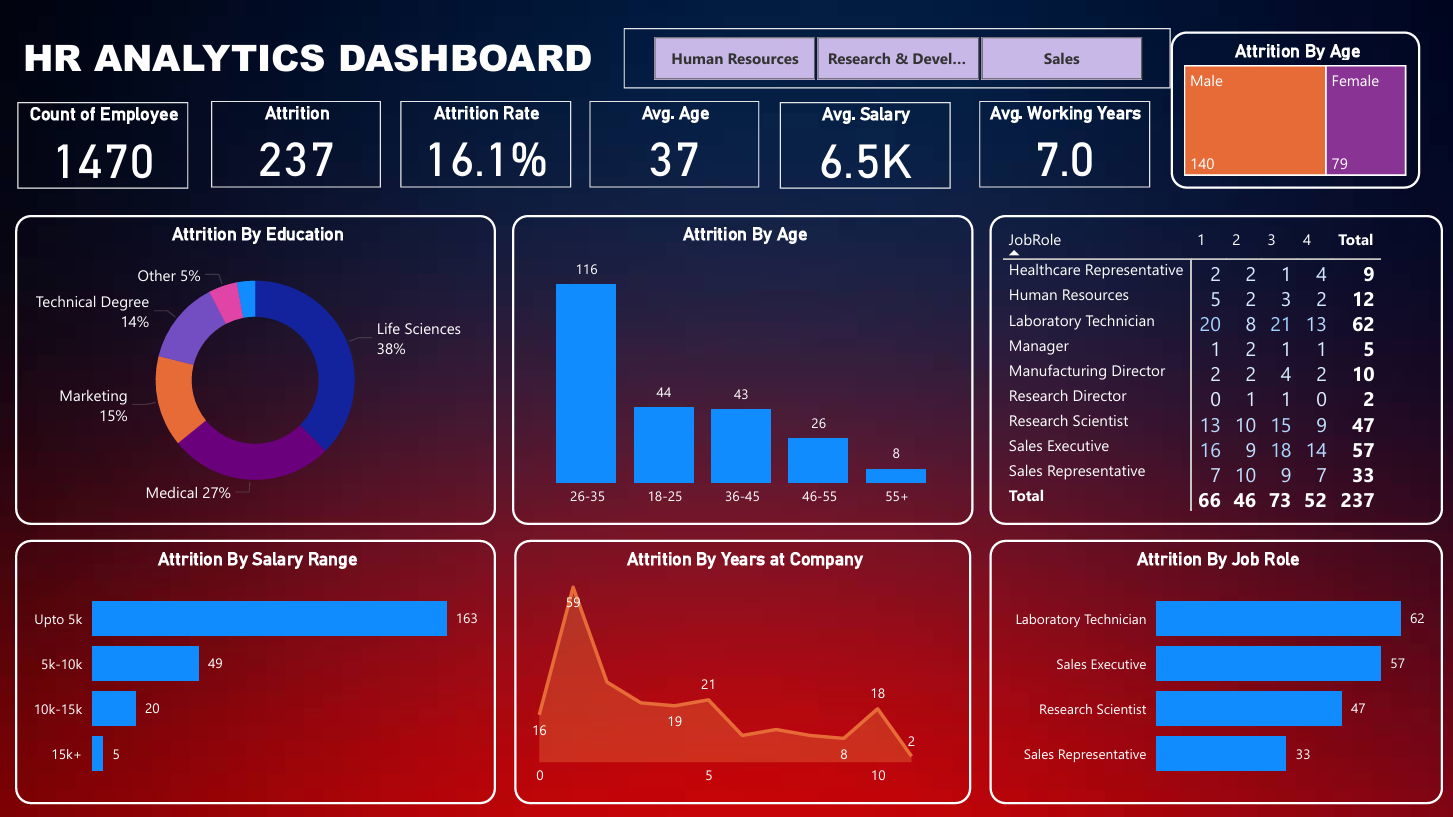

Layout of this report page (visuals, bound fields, positions):
{"tool":"powerbi","page":{"name":"Page 1","canvas":[1280,720],"ordinal":0},"visuals":[{"type":"card","title":"Count of Employee","fields":{"Values":["CountNonNull(HR_Analytics.EmpID)"]},"box":[16.2,89.4,149.6,75.5],"z":0},{"type":"card","title":"Attrition ","fields":{"Values":["Sum(HR_Analytics.AttritionCount)"]},"box":[185.8,88.1,149.6,76],"z":1},{"type":"card","title":"Attrition Rate","fields":{"Values":["HR_Analytics.AttritionRate"]},"box":[352.3,88.1,149.6,76],"z":2},{"type":"card","title":"Avg. Age","fields":{"Values":["Avg(HR_Analytics.Age)"]},"box":[517.6,88.1,149.6,76],"z":3},{"type":"card","title":"Avg. Working Years","fields":{"Values":["Avg(HR_Analytics.YearsAtCompany)"]},"box":[860.2,88.1,149.6,76],"z":4},{"type":"card","title":"Avg. Salary","fields":{"Values":["Avg(HR_Analytics.MonthlyIncome)"]},"box":[685.3,89.3,149.6,76],"z":5},{"type":"donutChart","title":"Attrition By Education","fields":{"Category":["HR_Analytics.EducationField"],"Y":["Sum(HR_Analytics.AttritionCount)"]},"box":[14.5,188.2,421,271.4],"z":6},{"type":"clusteredColumnChart","title":"Attrition By Age","fields":{"Category":["HR_Analytics.AgeGroup"],"Y":["Sum(HR_Analytics.AttritionCount)"]},"box":[450,188.2,405.4,271.4],"z":7},{"type":"pivotTable","fields":{"Rows":["HR_Analytics.JobRole"],"Columns":["HR_Analytics.JobSatisfaction"],"Values":["Sum(HR_Analytics.AttritionCount)"]},"box":[868.6,188.2,398.1,271.4],"z":8},{"type":"barChart","title":"Attrition By Salary Range","fields":{"Category":["HR_Analytics.SalarySlab"],"Y":["Sum(HR_Analytics.AttritionCount)"]},"box":[14.5,472.9,421,231.6],"z":9},{"type":"barChart","title":"Attrition By Job Role","fields":{"Y":["Sum(HR_Analytics.AttritionCount)"],"Category":["HR_Analytics.JobRole"]},"box":[868.6,472.9,398.1,231.6],"z":10},{"type":"areaChart","title":"Attrition By Years at Company","fields":{"Category":["HR_Analytics.YearsAtCompany"],"Y":["Sum(HR_Analytics.AttritionCount)"]},"box":[452.4,472.9,400.5,231.6],"z":11},{"type":"treemap","title":"Attrition By Age","fields":{"Group":["HR_Analytics.Gender"],"Values":["Sum(HR_Analytics.AttritionCount)"]},"box":[1027.9,26.5,219.6,138.7],"z":12},{"type":"slicer","fields":{"Values":["HR_Analytics.Department"]},"box":[547.7,24.1,480.2,53.1],"z":13},{"type":"textbox","box":[15.7,21.7,532,55.5],"z":14}]}

Visuals, with their boxes in screenshot pixels (x1, y1, x2, y2), scaled from the page's 1280x720 canvas onto the 1453x817 screenshot:
"Count of Employee" card: left=18, top=101, right=188, bottom=187
"Attrition " card: left=211, top=100, right=381, bottom=186
"Attrition Rate" card: left=400, top=100, right=570, bottom=186
"Avg. Age" card: left=588, top=100, right=757, bottom=186
"Avg. Working Years" card: left=976, top=100, right=1146, bottom=186
"Avg. Salary" card: left=778, top=101, right=948, bottom=188
"Attrition By Education" donutChart: left=16, top=214, right=494, bottom=522
"Attrition By Age" clusteredColumnChart: left=511, top=214, right=971, bottom=522
pivotTable - HR_Analytics.JobRole x HR_Analytics.JobSatisfaction: left=986, top=214, right=1438, bottom=522
"Attrition By Salary Range" barChart: left=16, top=537, right=494, bottom=799
"Attrition By Job Role" barChart: left=986, top=537, right=1438, bottom=799
"Attrition By Years at Company" areaChart: left=514, top=537, right=968, bottom=799
"Attrition By Age" treemap: left=1167, top=30, right=1416, bottom=187
slicer - HR_Analytics.Department: left=622, top=27, right=1167, bottom=88
textbox: left=18, top=25, right=622, bottom=88
